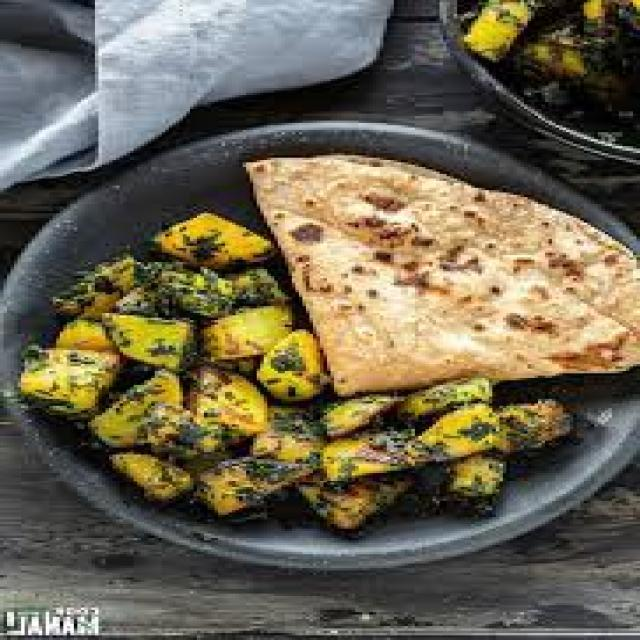Aloo Methi: (17, 228, 585, 530)
